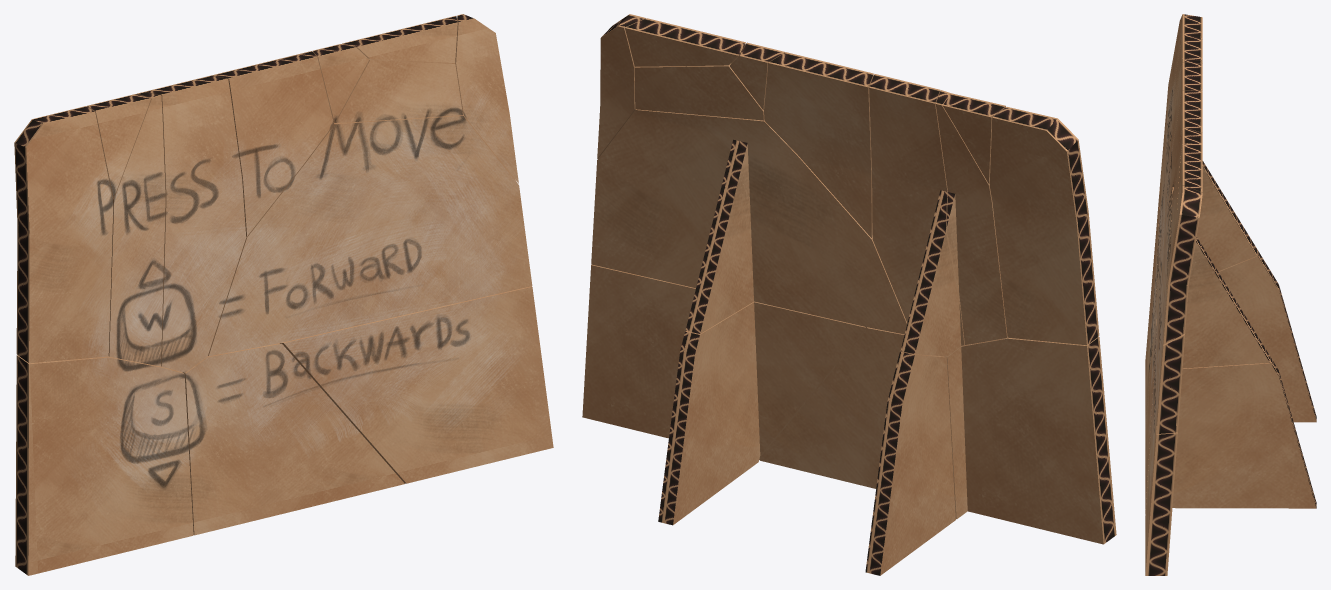
File: Carboard Movement Tut Fractured.fbx
3 views of the same model, side by side, from view 1: azimuth 30°, elevation 25°; view 2: azimuth 150°, elevation 25°; view 3: azimuth 270°, elevation 25° (orthographic). The views are drawn at different scales.
Parts seen in each view (by area): view 1: Cardboard Cut-Out.002_cell.010, Cardboard Cut-Out.002_cell.015, Cardboard Cut-Out.002_cell.013, Cardboard Cut-Out.002_cell.008, Cardboard Cut-Out.002_cell.014, Cardboard Cut-Out.002_cell, Cardboard Cut-Out.002_cell.006, Cardboard Cut-Out.002_cell.002, Cardboard Cut-Out.002_cell.001, Cardboard Cut-Out.002_cell.004, Cardboard Cut-Out.002_cell.011, Cardboard Cut-Out.002_cell.009 (+1 smaller); view 2: Cardboard Cut-Out.002_cell.010, Cardboard Cut-Out.002_cell.013, Cardboard Cut-Out.002_cell.015, Cardboard Cut-Out.002_cell.014, Cardboard Cut-Out.002_cell, Cardboard Cut-Out.002_cell.003, Cardboard Cut-Out.002_cell.002, Cardboard Cut-Out.002_cell.008, Cardboard Cut-Out.002_cell.006, Cardboard Cut-Out.002_cell.001, Cardboard Cut-Out.002_cell.011, Cardboard Cut-Out.002_cell.004 (+2 smaller); view 3: Cardboard Cut-Out.002_cell.013, Cardboard Cut-Out.002_cell.010, Cardboard Cut-Out.002_cell.003, Cardboard Cut-Out.002_cell, Cardboard Cut-Out.002_cell.004, Cardboard Cut-Out.002_cell.002, Cardboard Cut-Out.002_cell.014, Cardboard Cut-Out.002_cell.011, Cardboard Cut-Out.002_cell.015, Cardboard Cut-Out.002_cell.008, Cardboard Cut-Out.002_cell.009, Cardboard Cut-Out.002_cell.006 (+2 smaller).
Boxes of the visible parts, x1,y1,x2,y2 form: Cardboard Cut-Out.002_cell.010: [208, 112, 532, 356]; Cardboard Cut-Out.002_cell.015: [15, 355, 193, 575]; Cardboard Cut-Out.002_cell.013: [280, 286, 553, 483]; Cardboard Cut-Out.002_cell.008: [182, 343, 404, 535]; Cardboard Cut-Out.002_cell.014: [14, 106, 113, 363]; Cardboard Cut-Out.002_cell: [144, 75, 246, 372]; Cardboard Cut-Out.002_cell.006: [108, 92, 165, 366]; Cardboard Cut-Out.002_cell.002: [211, 51, 333, 236]; Cardboard Cut-Out.002_cell.001: [333, 58, 462, 122]; Cardboard Cut-Out.002_cell.004: [455, 14, 518, 183]; Cardboard Cut-Out.002_cell.011: [342, 16, 457, 62]; Cardboard Cut-Out.002_cell.009: [87, 94, 150, 198]; Cardboard Cut-Out.002_cell.010: [591, 109, 907, 334]; Cardboard Cut-Out.002_cell.013: [582, 264, 865, 525]; Cardboard Cut-Out.002_cell.015: [944, 337, 1116, 544]; Cardboard Cut-Out.002_cell.014: [989, 107, 1099, 345]; Cardboard Cut-Out.002_cell: [869, 74, 964, 356]; Cardboard Cut-Out.002_cell.003: [865, 352, 955, 575]; Cardboard Cut-Out.002_cell.002: [764, 52, 873, 238]; Cardboard Cut-Out.002_cell.008: [759, 327, 904, 488]; Cardboard Cut-Out.002_cell.006: [935, 90, 1007, 344]; Cardboard Cut-Out.002_cell.001: [634, 63, 764, 120]; Cardboard Cut-Out.002_cell.011: [625, 18, 745, 66]; Cardboard Cut-Out.002_cell.004: [597, 14, 645, 158]; Cardboard Cut-Out.002_cell.013: [1145, 333, 1316, 575]; Cardboard Cut-Out.002_cell.010: [1156, 187, 1270, 433]; Cardboard Cut-Out.002_cell.003: [1218, 250, 1316, 422]; Cardboard Cut-Out.002_cell: [1156, 63, 1257, 292]; Cardboard Cut-Out.002_cell.004: [1163, 185, 1202, 344]; Cardboard Cut-Out.002_cell.002: [1164, 90, 1202, 220]; Cardboard Cut-Out.002_cell.014: [1158, 14, 1202, 231]; Cardboard Cut-Out.002_cell.011: [1177, 143, 1202, 211]; Cardboard Cut-Out.002_cell.015: [1145, 191, 1159, 427]; Cardboard Cut-Out.002_cell.008: [1145, 293, 1156, 514]; Cardboard Cut-Out.002_cell.009: [1170, 35, 1202, 109]; Cardboard Cut-Out.002_cell.006: [1157, 59, 1203, 269].
Bounding box in the file's own units: 131 × 102 × 43.65.
